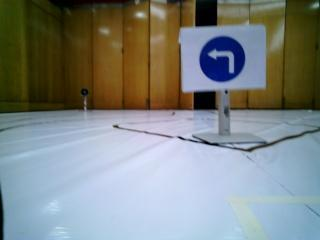left: (179, 33, 263, 84)
